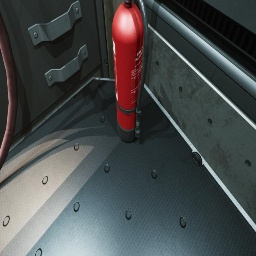FireExtinguisher ]: (112, 0, 149, 142)
